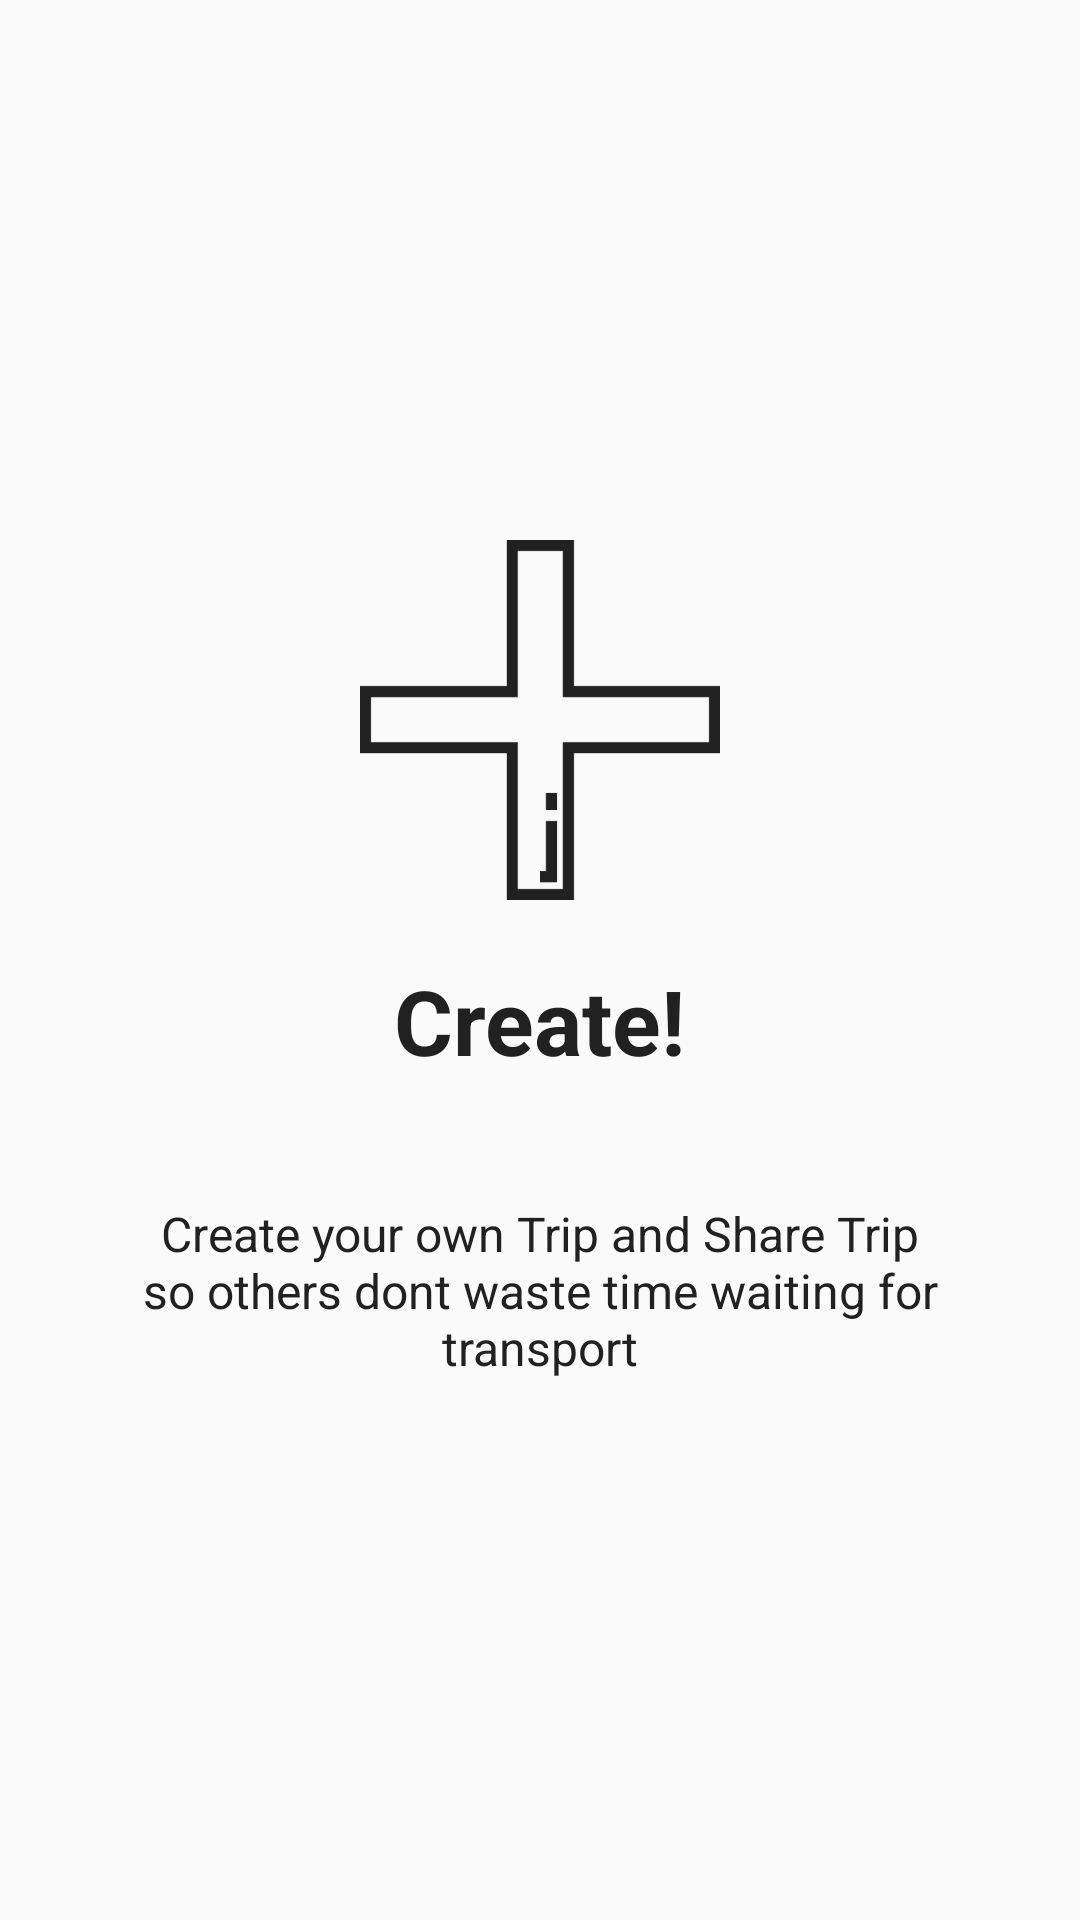

Named icons in this screenshot (1080*1920) and their bounding boxes, (x1, y1, x2, y2):
plus: (360, 540, 720, 900)
